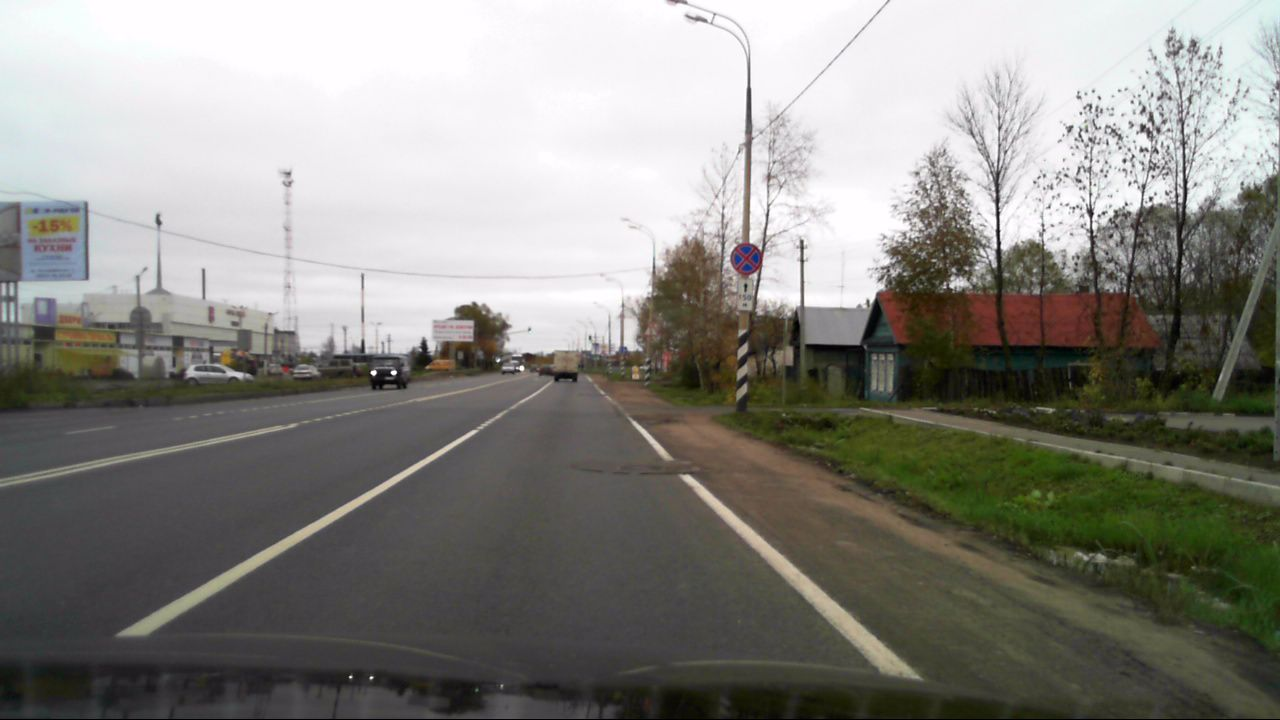No Parking: (730, 242, 762, 275)
